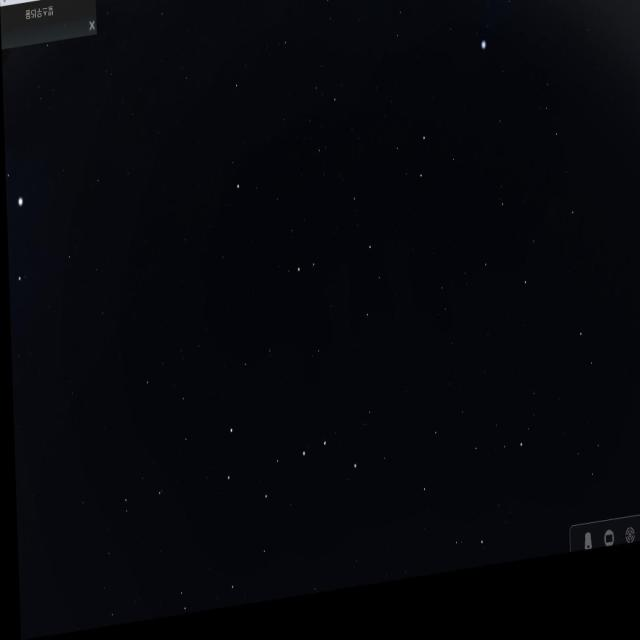lyra: (473, 0, 520, 82)
ursa_major: (215, 396, 356, 534)
